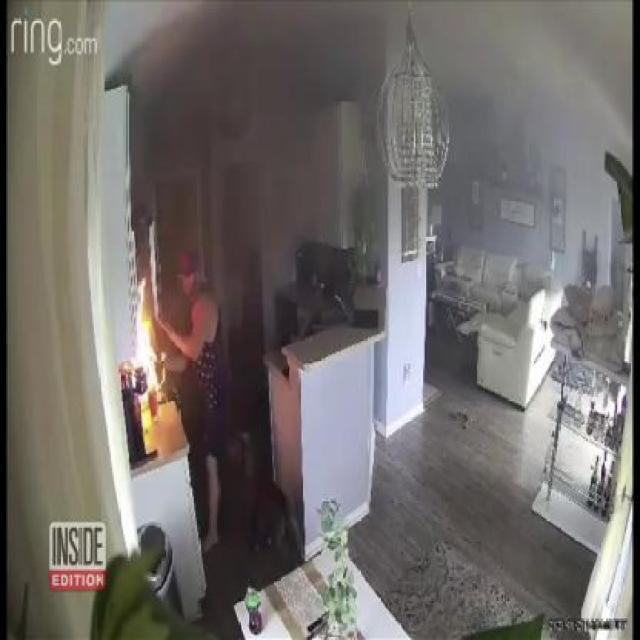fire: (139, 270, 167, 392)
smoke: (450, 8, 633, 136), (131, 6, 352, 102)
